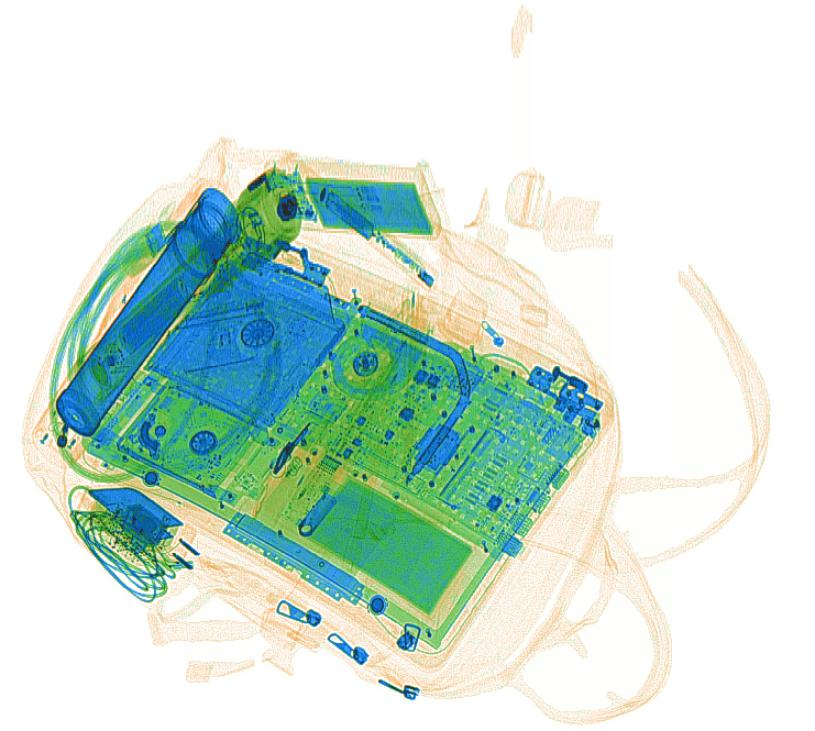battery: (118, 279, 189, 356), (320, 190, 381, 241)
